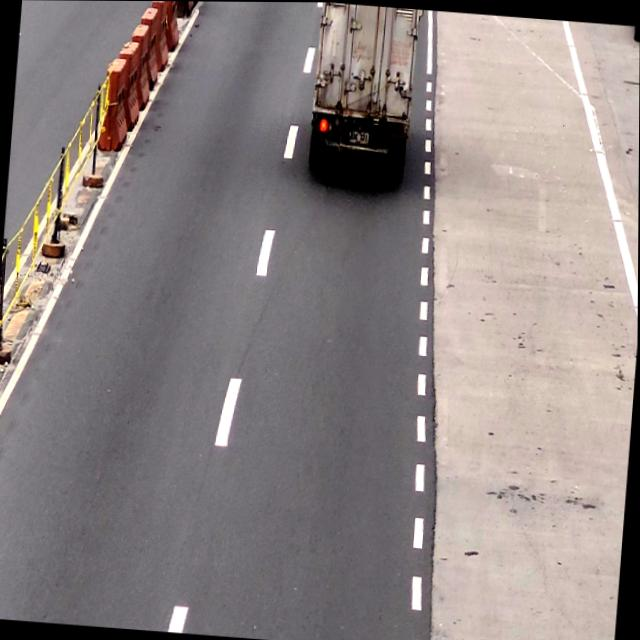License-Plate: (347, 127, 369, 147)
Truck: (303, 2, 418, 182)
